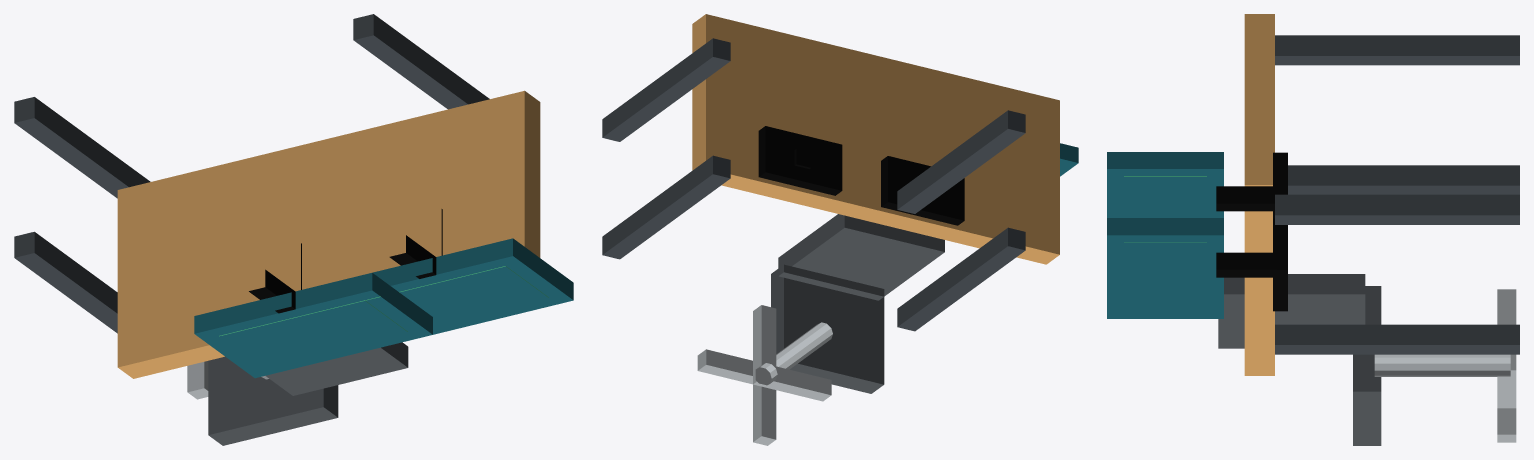
Rendered from desk_with_monitors.glb.
3 views of the same model, side by side, from view 1: azimuth 30°, elevation 25°; view 2: azimuth 150°, elevation 25°; view 3: azimuth 270°, elevation 25° (orthographic). The views are drawn at different scales.
Visible parts, largest first — view 1: desk_top, monitor_left_screen, monitor_right_screen, chair_seat, desk_leg_c, desk_leg_d, desk_leg_a, chair_back, monitor_left_neck, monitor_right_neck, chair_base_y; view 2: desk_top, chair_seat, chair_back, monitor_right_base, desk_leg_a, desk_leg_b, desk_leg_c, desk_leg_d, chair_base_y, monitor_left_base, chair_base_x, chair_post (+1 smaller); view 3: monitor_right_screen, monitor_left_screen, desk_top, desk_leg_b, desk_leg_c, desk_leg_d, desk_leg_a, chair_back, chair_seat, chair_post, monitor_right_neck, monitor_left_neck (+4 smaller).
Boxes of the visible parts, x1,y1,x2,y2 form: desk_top: (117, 90, 540, 378); monitor_left_screen: (194, 272, 432, 378); monitor_right_screen: (335, 238, 573, 334); chair_seat: (208, 356, 338, 445); desk_leg_c: (14, 97, 150, 198); desk_leg_d: (353, 14, 489, 109); desk_leg_a: (14, 231, 117, 333); chair_back: (265, 342, 408, 395); monitor_left_neck: (249, 269, 295, 313); monitor_right_neck: (389, 235, 436, 278); chair_base_y: (187, 361, 208, 399); desk_top: (692, 14, 1059, 264); chair_seat: (771, 264, 884, 393); chair_back: (778, 214, 944, 300); monitor_right_base: (758, 126, 842, 195); desk_leg_a: (897, 227, 1025, 331); desk_leg_b: (602, 155, 730, 259); desk_leg_c: (897, 110, 1025, 213); desk_leg_d: (602, 38, 730, 141); chair_base_y: (753, 305, 776, 445); monitor_left_base: (881, 156, 964, 225); chair_base_x: (697, 349, 831, 401); chair_post: (755, 322, 832, 385); monitor_right_screen: (1107, 218, 1223, 318); monitor_left_screen: (1107, 152, 1223, 252); desk_top: (1244, 14, 1274, 375); desk_leg_b: (1275, 324, 1519, 354); desk_leg_c: (1275, 35, 1519, 65); desk_leg_d: (1275, 194, 1519, 224); desk_leg_a: (1288, 165, 1519, 194); chair_back: (1218, 274, 1365, 348); chair_seat: (1353, 286, 1381, 445); chair_post: (1374, 354, 1510, 376); monitor_right_neck: (1216, 252, 1276, 277); monitor_left_neck: (1216, 186, 1276, 211).
Bounding box in the file's own units: 2.4 × 1.92 × 2.19.
